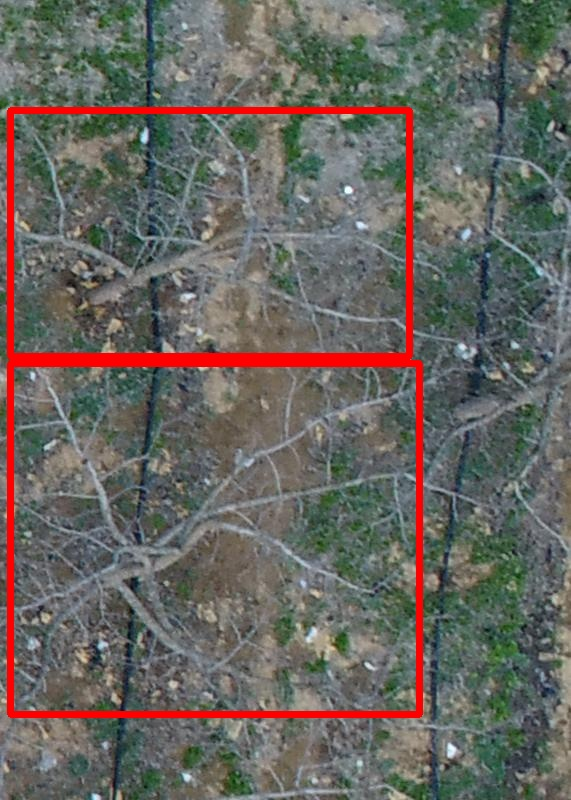apple: (10, 363, 419, 714), (10, 110, 409, 356)
